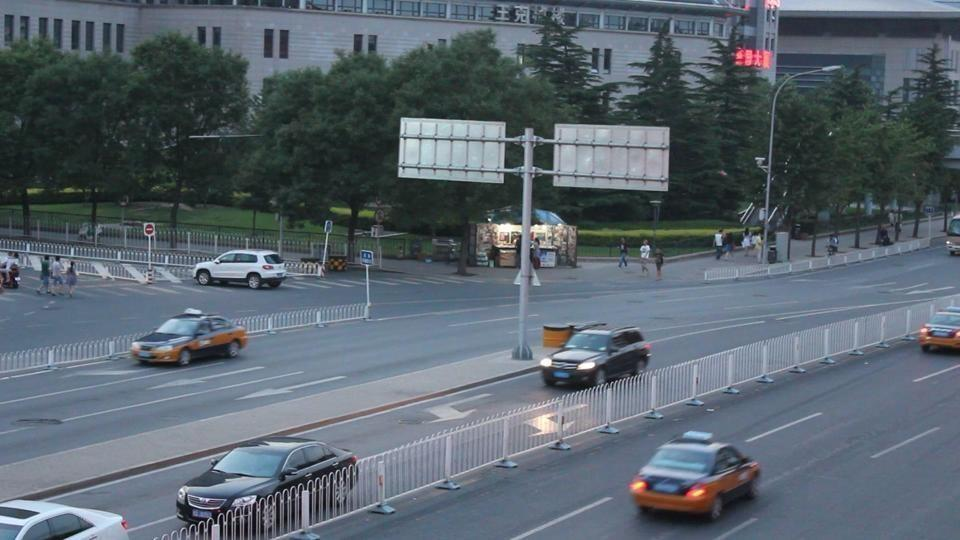car: (175, 439, 358, 524), (627, 433, 762, 522), (539, 326, 653, 389), (128, 313, 248, 367), (0, 495, 131, 539), (191, 249, 288, 289), (918, 305, 960, 353), (946, 216, 960, 257)
